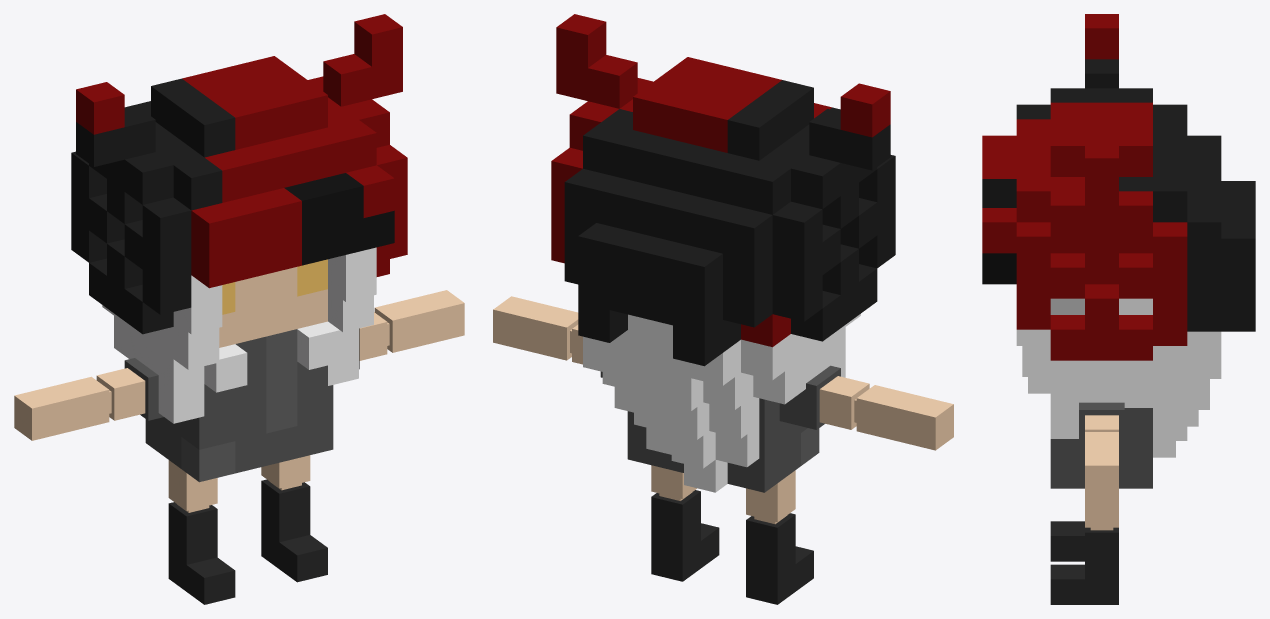
Rendered from Player1.obj.
3 views of the same model, side by side, from view 1: azimuth 30°, elevation 25°; view 2: azimuth 150°, elevation 25°; view 3: azimuth 270°, elevation 25° (orthographic). The views are drawn at different scales.
Bounding box in the file's own units: 8.4 × 9.5 × 4.8.
Materials: 1 (1 with a texture image).
